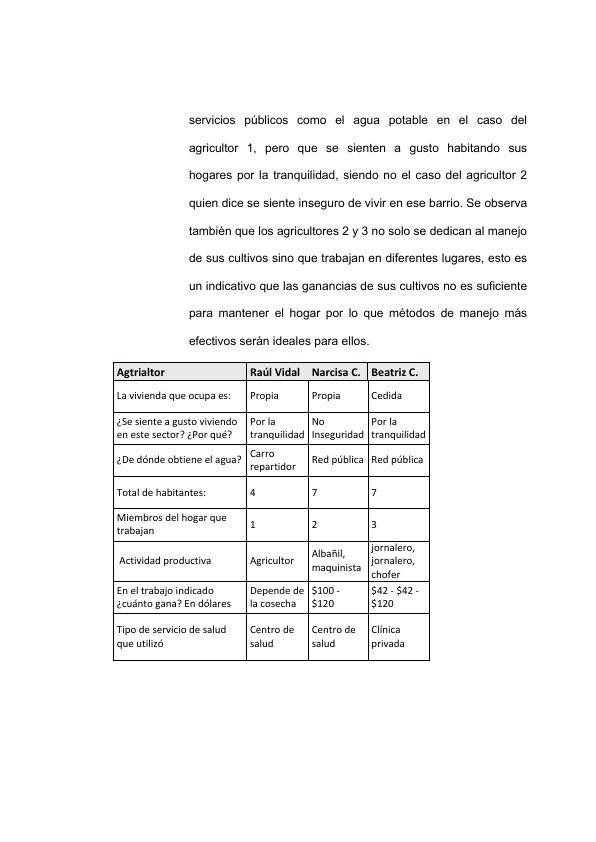table: (110, 361, 435, 663)
text: (182, 111, 542, 350)
